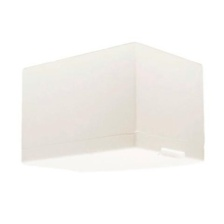foam_box: (14, 39, 212, 181)
